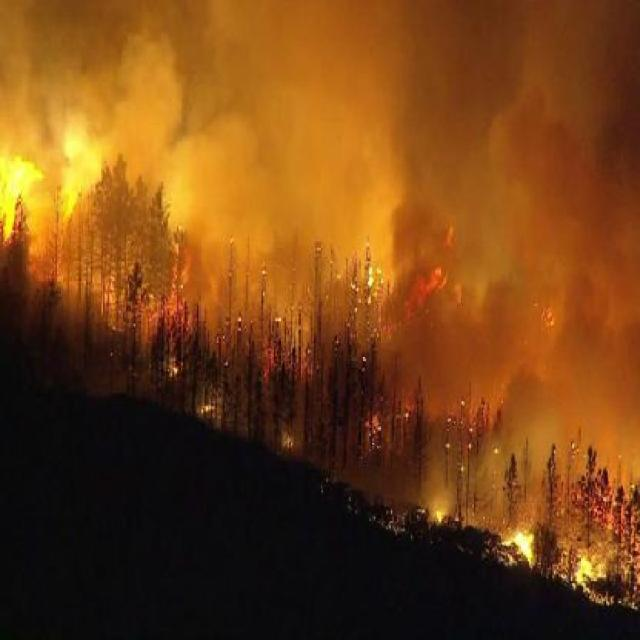Fire: (396, 235, 556, 416), (7, 122, 101, 256), (508, 519, 598, 596), (144, 248, 201, 354)
